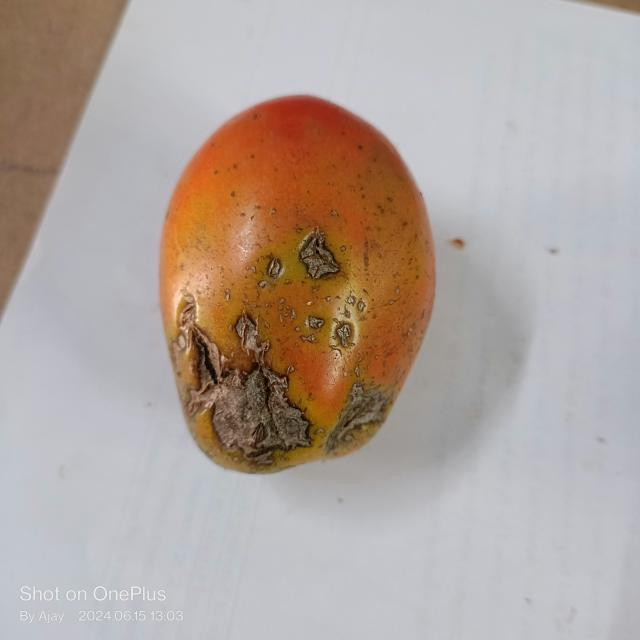Bacterial_Spot: (188, 323, 320, 465), (331, 377, 381, 441), (295, 227, 351, 280), (334, 323, 356, 352), (342, 296, 369, 318), (264, 256, 286, 282), (276, 296, 296, 316), (222, 290, 235, 302)
